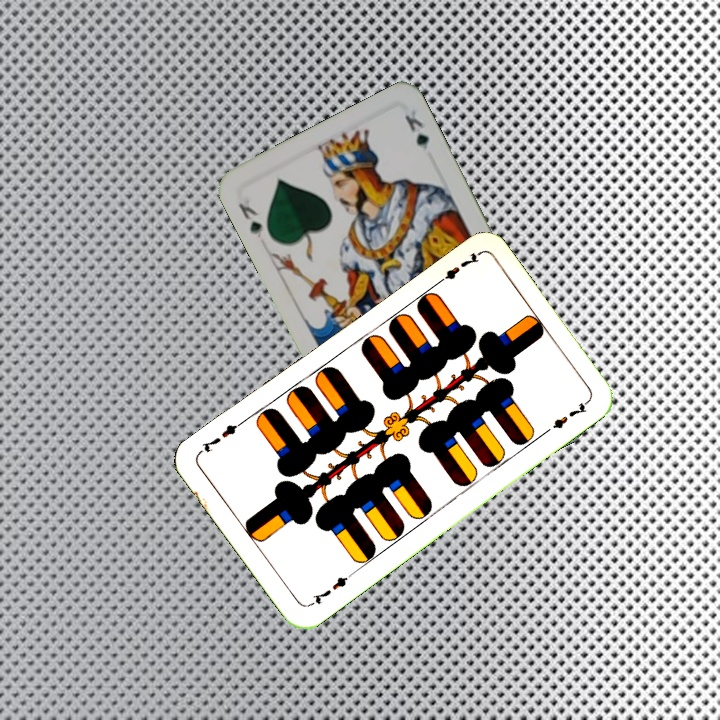E7: (305, 568, 356, 609), (431, 248, 482, 289)
GK: (234, 199, 265, 241)
